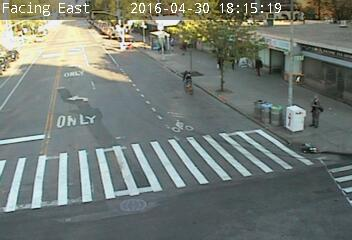neg: (237, 94, 275, 144), (173, 64, 202, 104), (279, 104, 299, 130), (48, 62, 68, 88), (112, 36, 126, 55)
pos: (304, 93, 331, 129), (249, 55, 265, 77), (180, 36, 195, 55)
